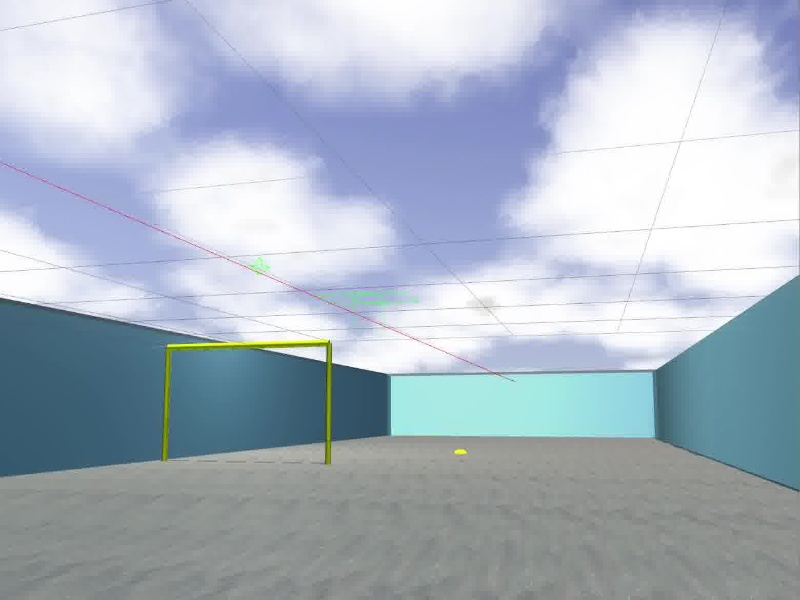gate: (158, 340, 335, 467)
